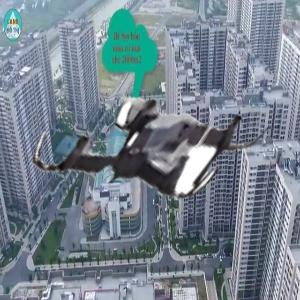drone: (48, 49, 242, 243)
